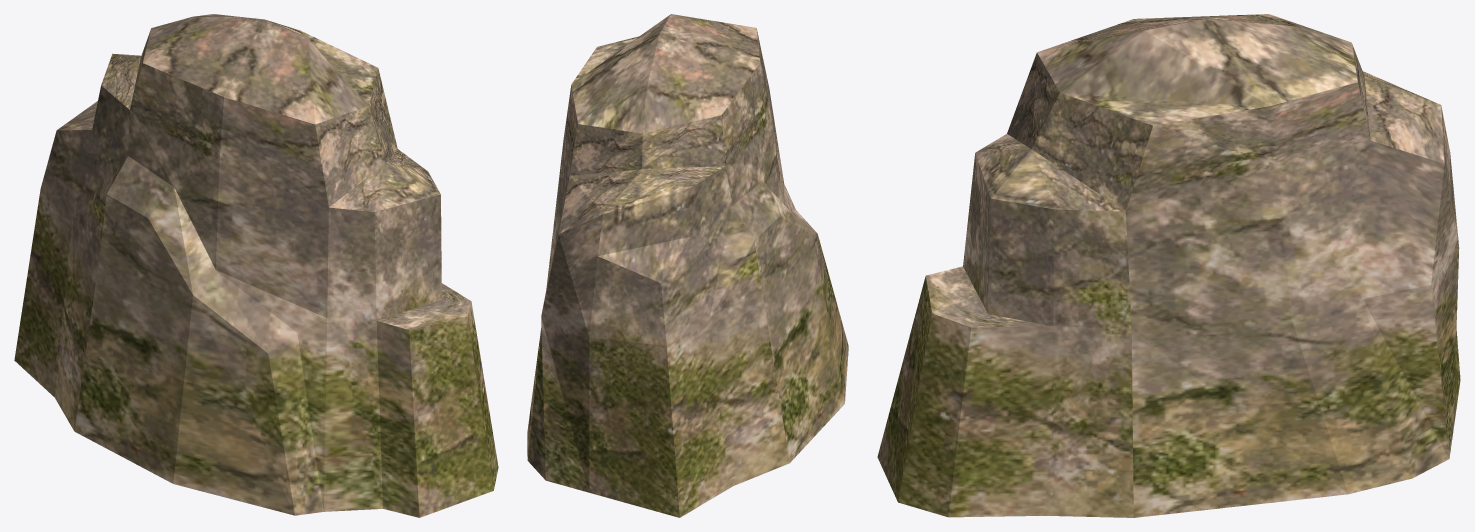
The model's file is town_mountain_a__11___1_3.fbx.
3 views of the same model, side by side, from view 1: azimuth 30°, elevation 25°; view 2: azimuth 150°, elevation 25°; view 3: azimuth 270°, elevation 25° (orthographic). The views are drawn at different scales.
Visible parts, largest first — view 1: town_mountain_a__11___1_3; view 2: town_mountain_a__11___1_3; view 3: town_mountain_a__11___1_3.
Boxes of the visible parts, box(x1,y1,x2,y2) form: town_mountain_a__11___1_3: box(14, 14, 498, 517); town_mountain_a__11___1_3: box(527, 14, 848, 517); town_mountain_a__11___1_3: box(877, 14, 1460, 517).
Size of the model in its own units: 24.6 by 32.6 by 39.62.
